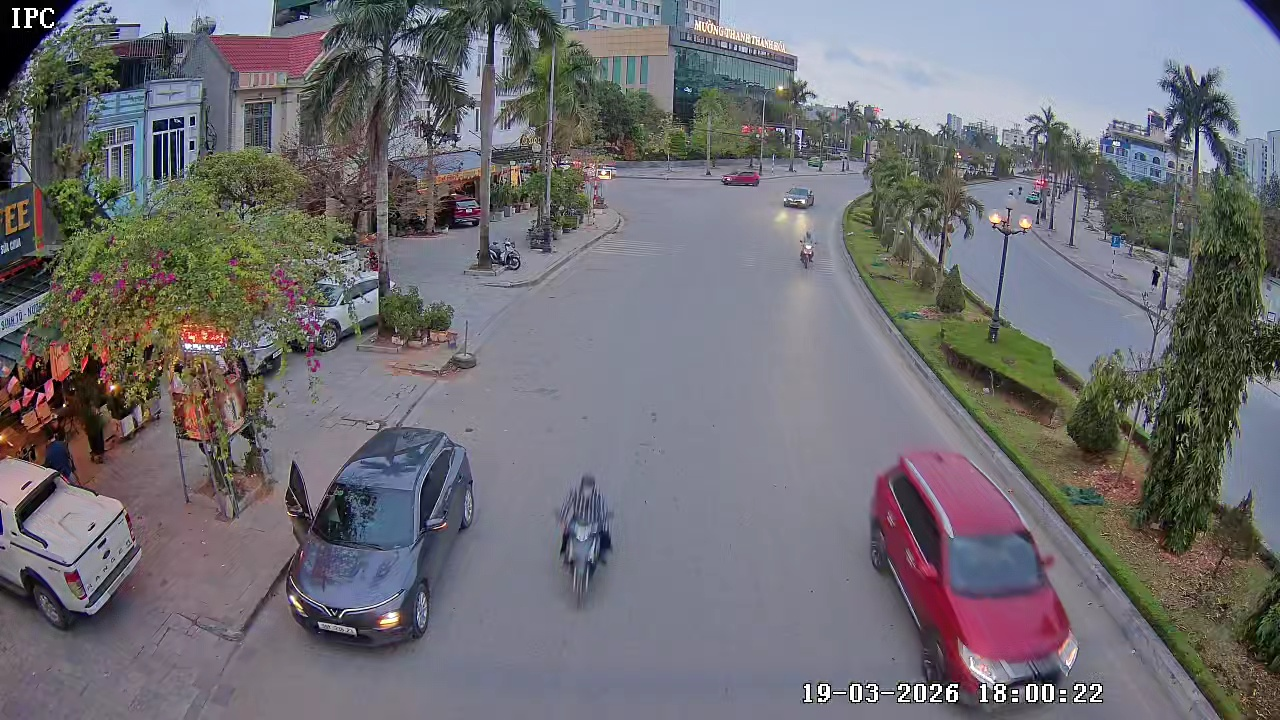car: (867, 448, 1080, 711), (282, 423, 478, 648), (0, 471, 142, 629), (721, 161, 762, 187), (782, 185, 816, 209)
motorbike: (554, 471, 618, 607), (797, 223, 817, 270)
